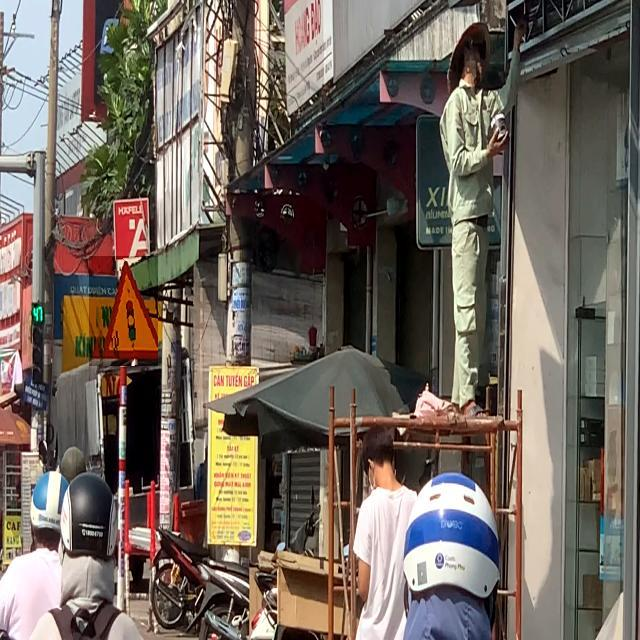W-209: (89, 257, 158, 367)
